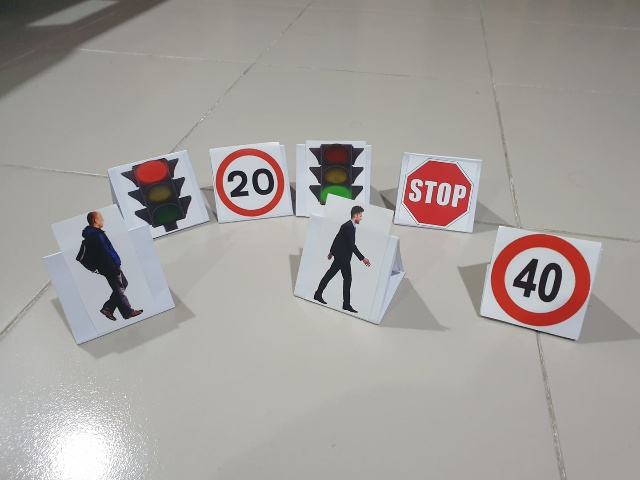Green: (299, 143, 366, 202)
Limit 20: (211, 148, 288, 218)
Limit 40: (499, 228, 594, 333)
Person: (64, 213, 146, 323), (313, 202, 372, 318)
Red: (118, 165, 197, 228)
Stop: (403, 156, 476, 227)
